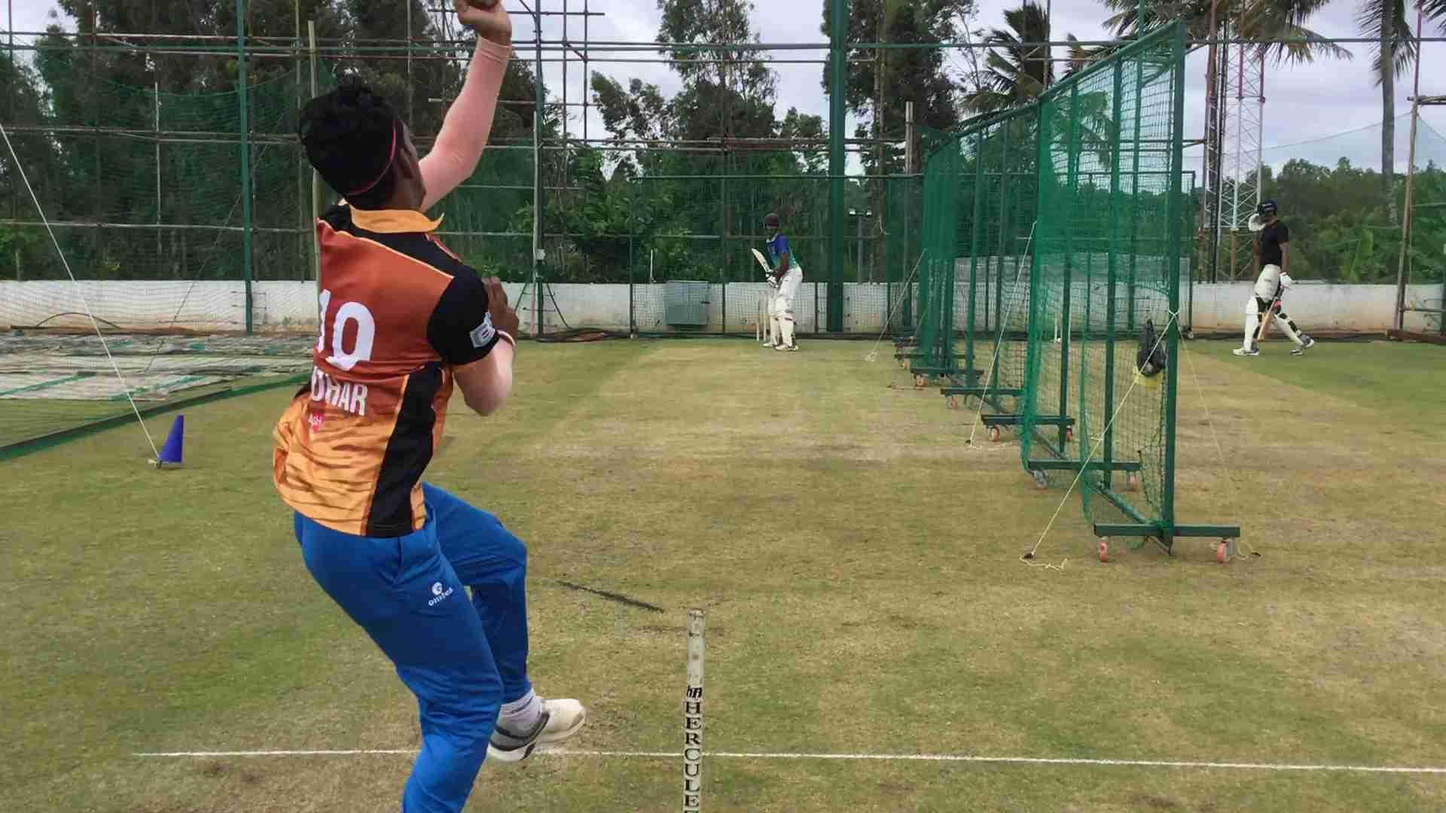batsman: (757, 210, 805, 359)
